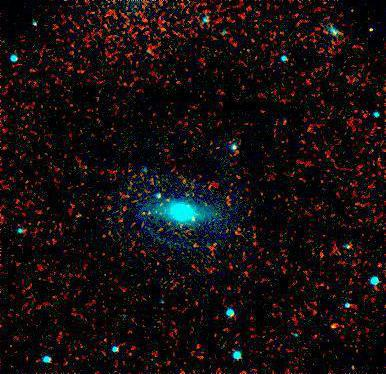star: (320, 311, 350, 341)
